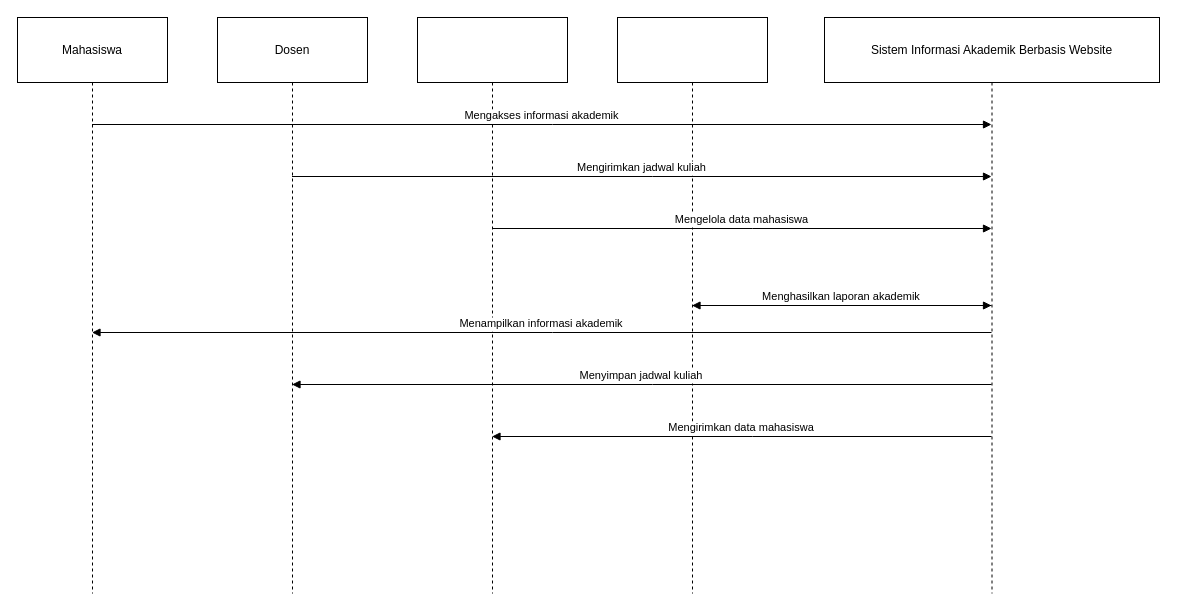
This 1177x611 diagram has some shape labels left out. Each missing label, with the box of its shape:
Pimpinan Kampus: (616, 16, 768, 594)
Staf Administrasi: (416, 16, 568, 594)
